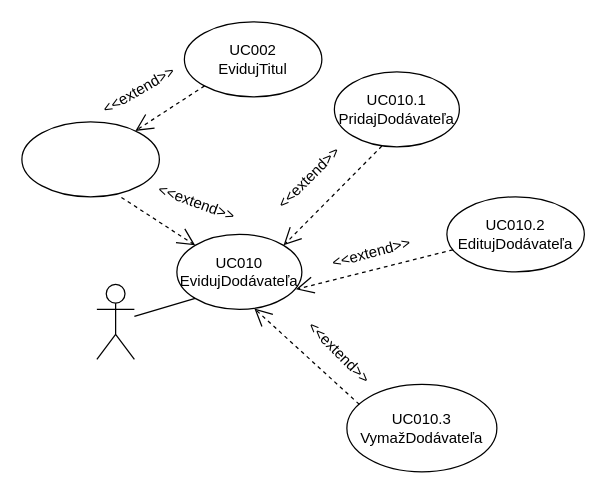
This 606x494 diagram has some shape labels left out. Here are the shapes that lost their labels. From the top down, the centre of each, then its label:
At (x=90, y=159): "UC010.4 PošliObjednávku".
At (x=115, y=321): "Zamestnanec".
